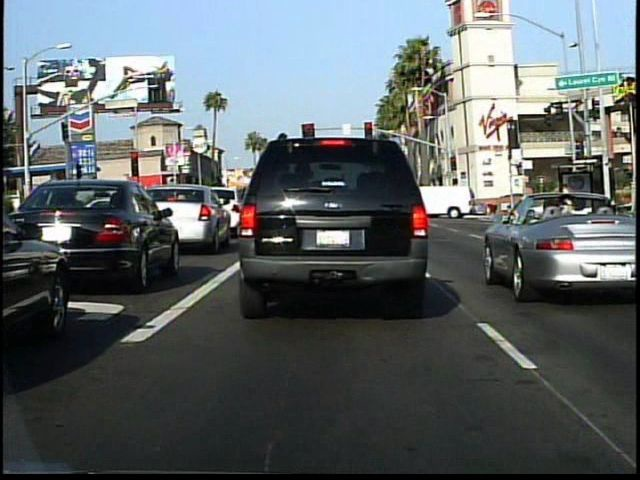person: (553, 179, 575, 232)
